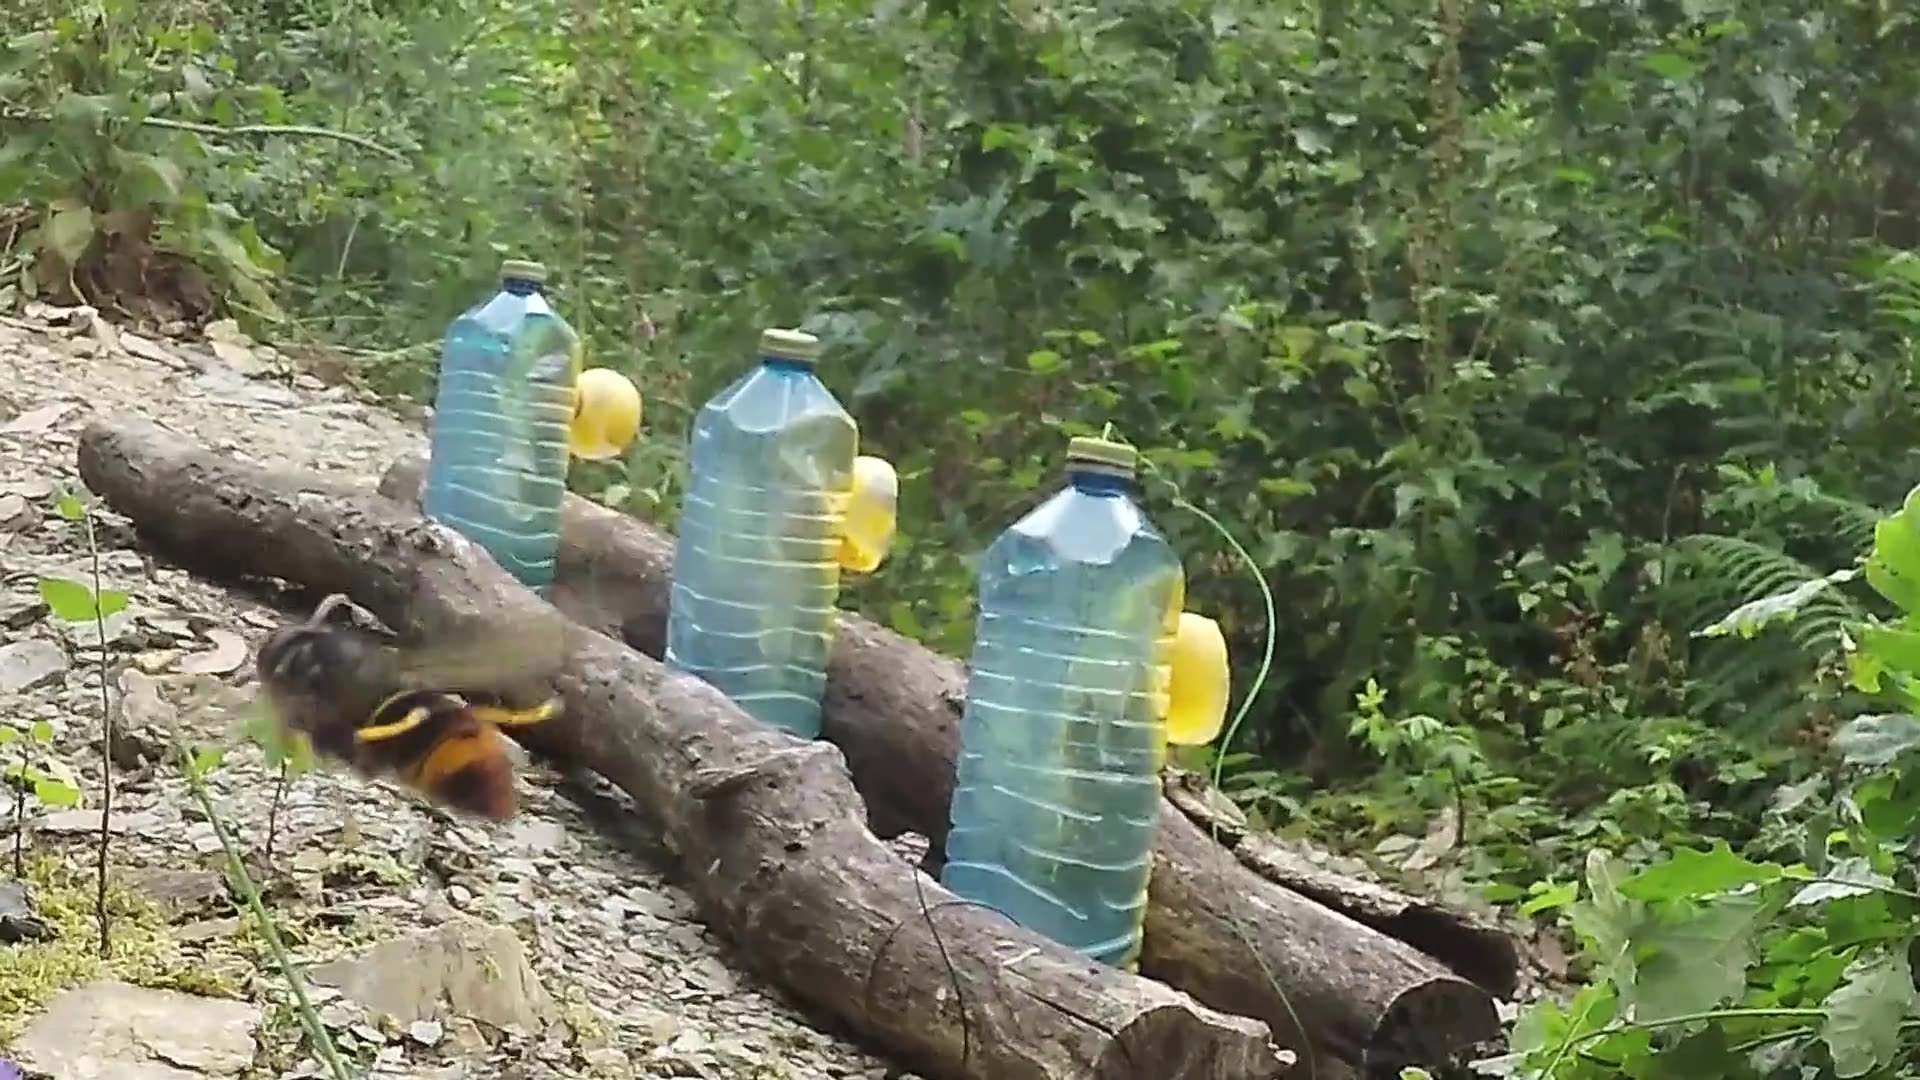hornet: (240, 613, 547, 844)
